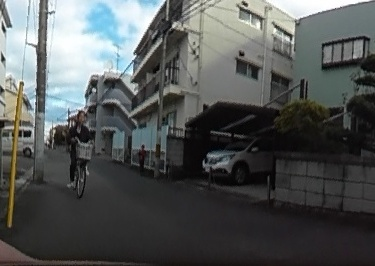person: (68, 109, 87, 182), (138, 145, 147, 172)
